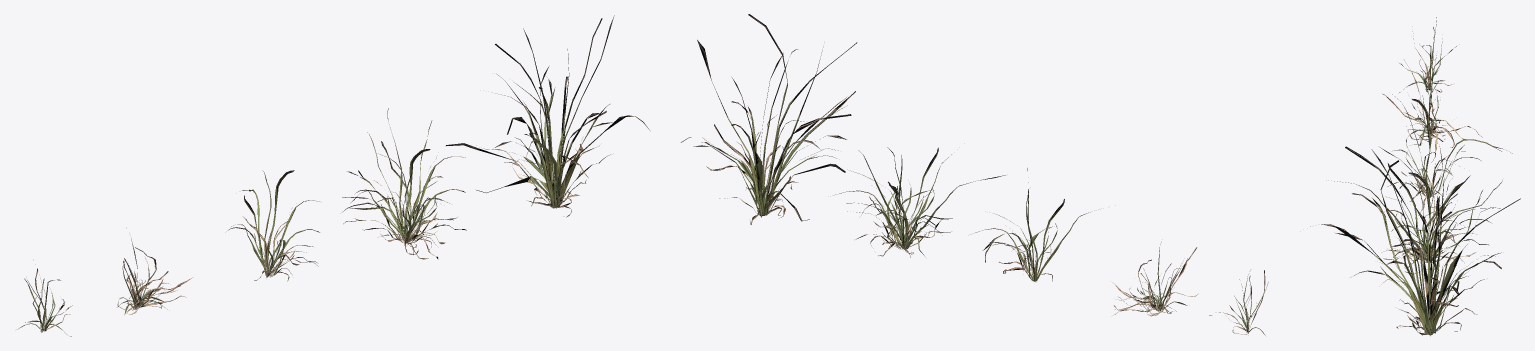
The model's file is grass_medium_02.glb.
3 views of the same model, side by side, from view 1: azimuth 30°, elevation 25°; view 2: azimuth 150°, elevation 25°; view 3: azimuth 270°, elevation 25° (orthographic). The views are drawn at different scales.
Parts seen in each view (by area): view 1: grass_medium_02_e, grass_medium_02_d, grass_medium_02_c, grass_medium_02_b, grass_medium_02_a; view 2: grass_medium_02_e, grass_medium_02_d, grass_medium_02_c, grass_medium_02_b, grass_medium_02_a; view 3: grass_medium_02_e, grass_medium_02_d, grass_medium_02_c, grass_medium_02_b, grass_medium_02_a.
Boxes of the visible parts, box(x1,y1,x2,y2) form: grass_medium_02_e: box(446, 15, 649, 217); grass_medium_02_d: box(342, 108, 466, 259); grass_medium_02_c: box(228, 170, 319, 281); grass_medium_02_b: box(117, 238, 192, 314); grass_medium_02_a: box(17, 268, 72, 336); grass_medium_02_e: box(681, 14, 857, 224); grass_medium_02_d: box(835, 147, 1005, 257); grass_medium_02_c: box(975, 168, 1090, 281); grass_medium_02_b: box(1112, 242, 1197, 316); grass_medium_02_a: box(1209, 270, 1268, 335); grass_medium_02_e: box(1310, 146, 1520, 335); grass_medium_02_d: box(1334, 145, 1502, 274); grass_medium_02_c: box(1387, 94, 1512, 215); grass_medium_02_b: box(1382, 55, 1482, 150); grass_medium_02_a: box(1399, 17, 1456, 92).
Size of the model in its own units: 1.31 by 0.4053 by 0.4326.
Materials: 1 (1 with a texture image).
